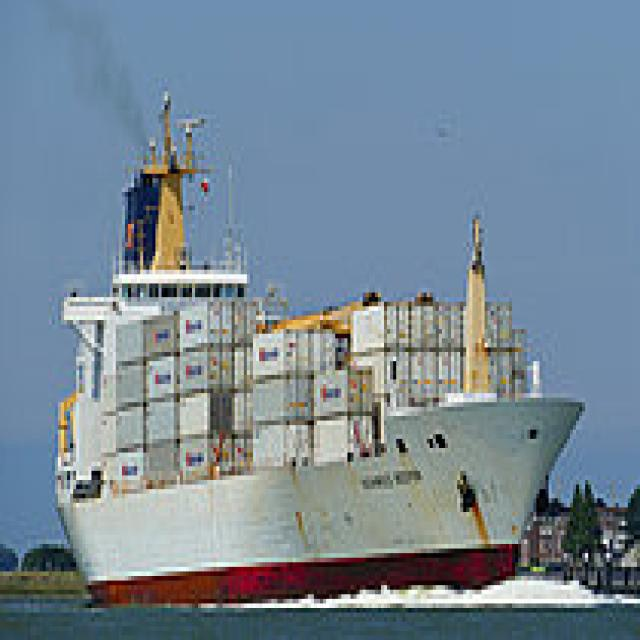Cargo: (46, 78, 585, 608)
